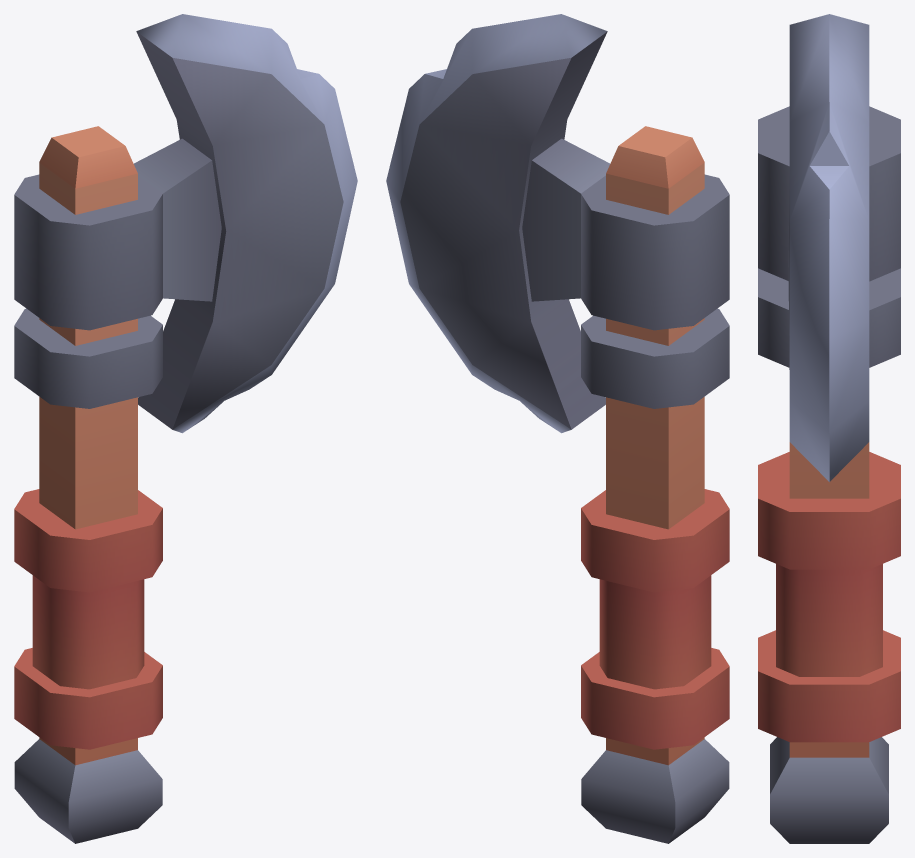
The model's file is axe-single.fbx.
3 views of the same model, side by side, from view 1: azimuth 30°, elevation 25°; view 2: azimuth 150°, elevation 25°; view 3: azimuth 270°, elevation 25° (orthographic). The views are drawn at different scales.
Parts seen in each view (by area): view 1: axe-single; view 2: axe-single; view 3: axe-single.
Part boxes in pixels (box(x1,y1,x2,y2)): axe-single: box(14, 14, 357, 843); axe-single: box(386, 14, 729, 843); axe-single: box(758, 14, 900, 843).
Bounding box in the file's own units: 130 × 300 × 45.
1 material, 1 textured.
